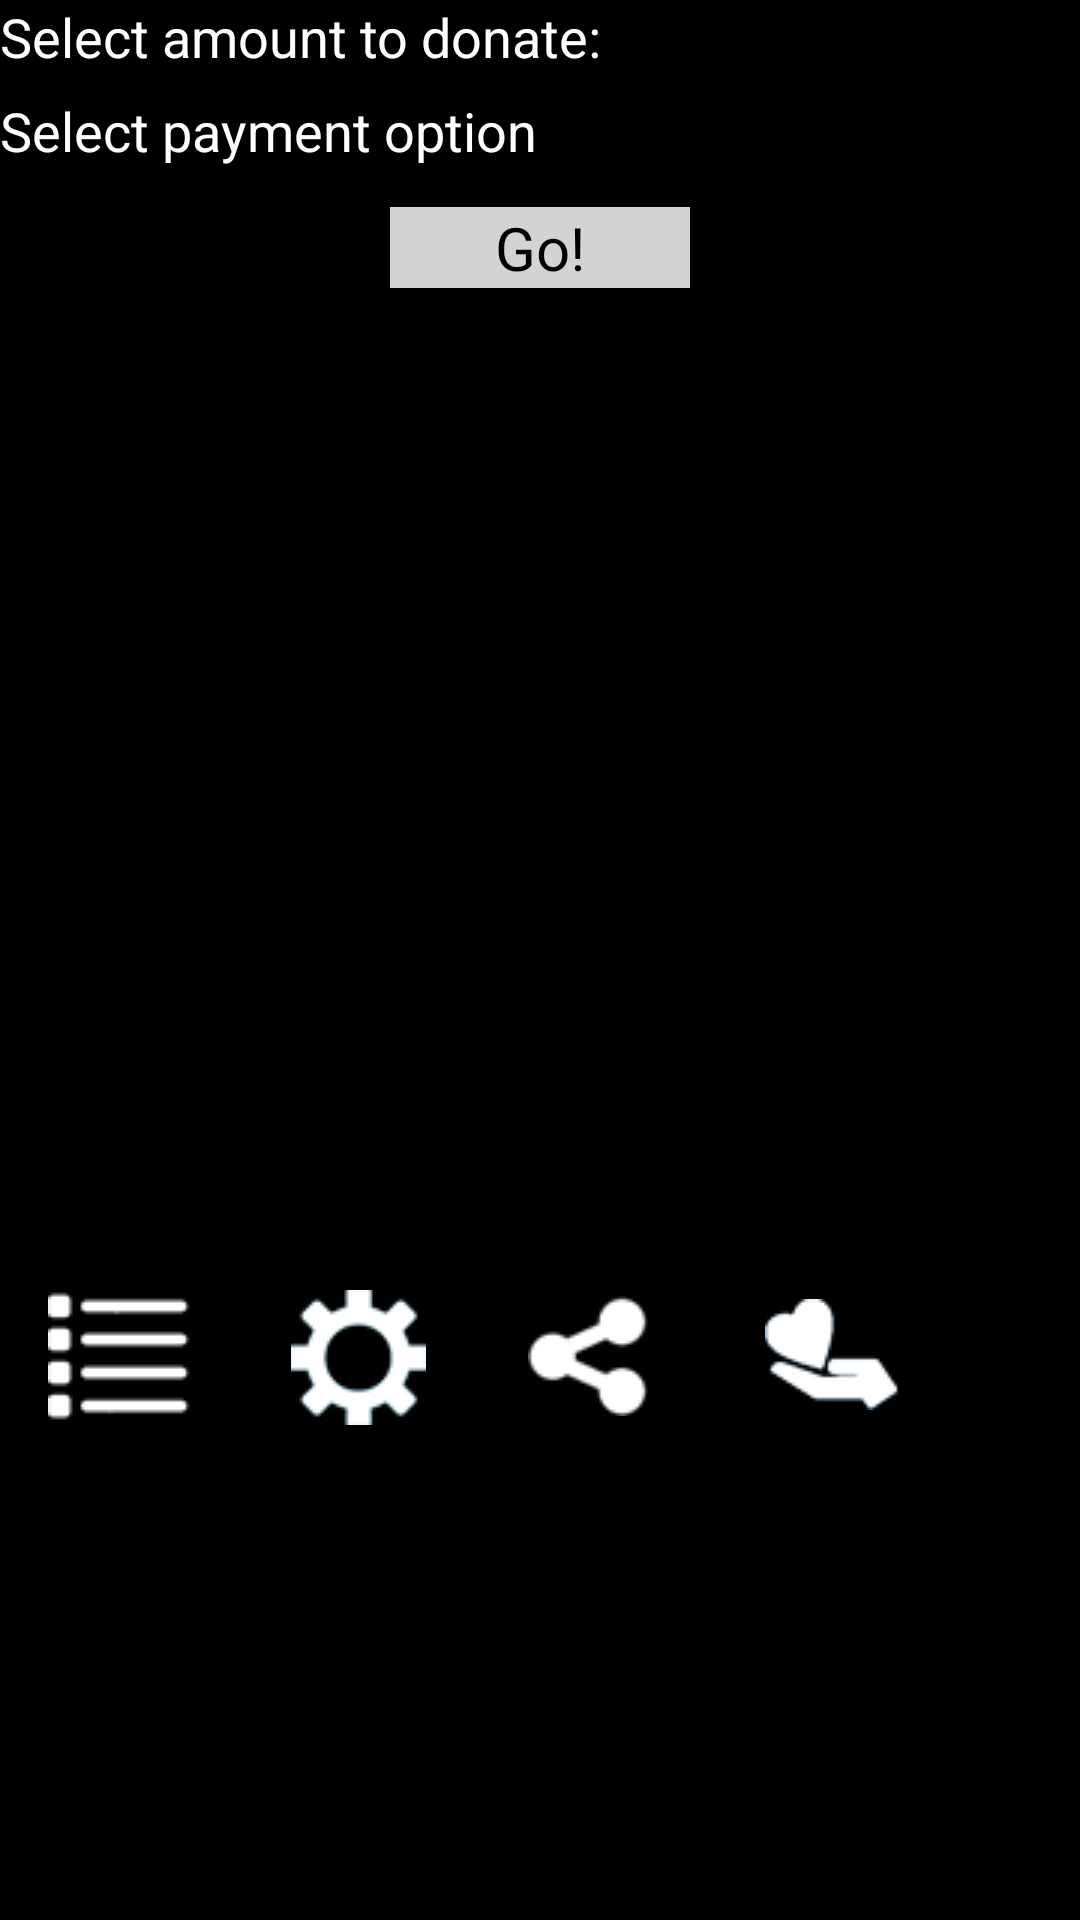

Screen size 1080 × 1920. Icon name, then its box in pixels as (x1, y1, x2, y2):
donate: (765, 1299, 898, 1410)
list mini: (48, 1292, 190, 1420)
setting: (291, 1290, 426, 1425)
share: (528, 1296, 648, 1416)
